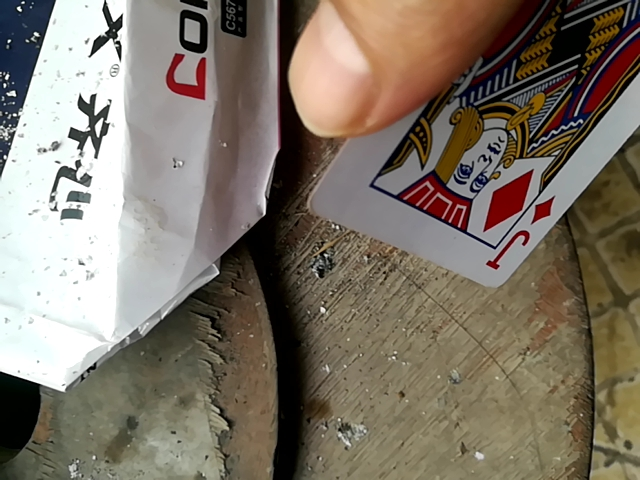fk j: (297, 0, 640, 286)
